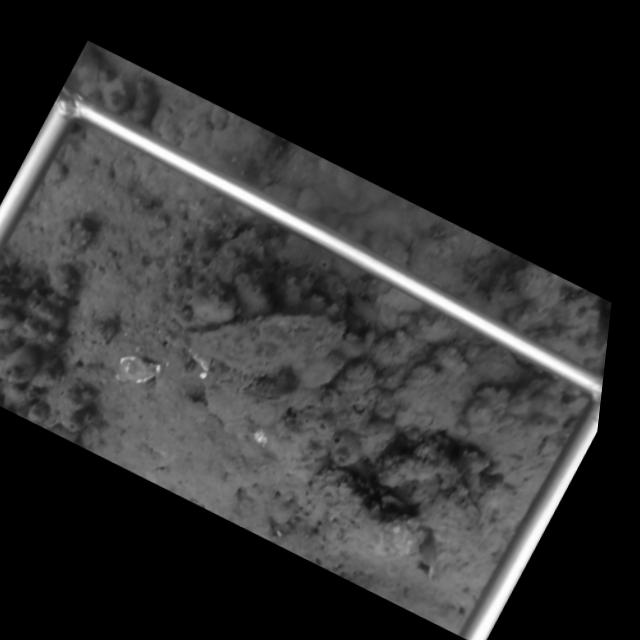Oyster-Indeterminate: (301, 465, 422, 564), (173, 315, 348, 378)
